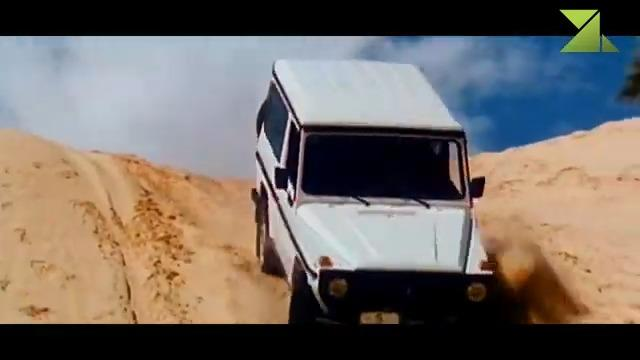MIL_HMMWV: (250, 57, 501, 322)
